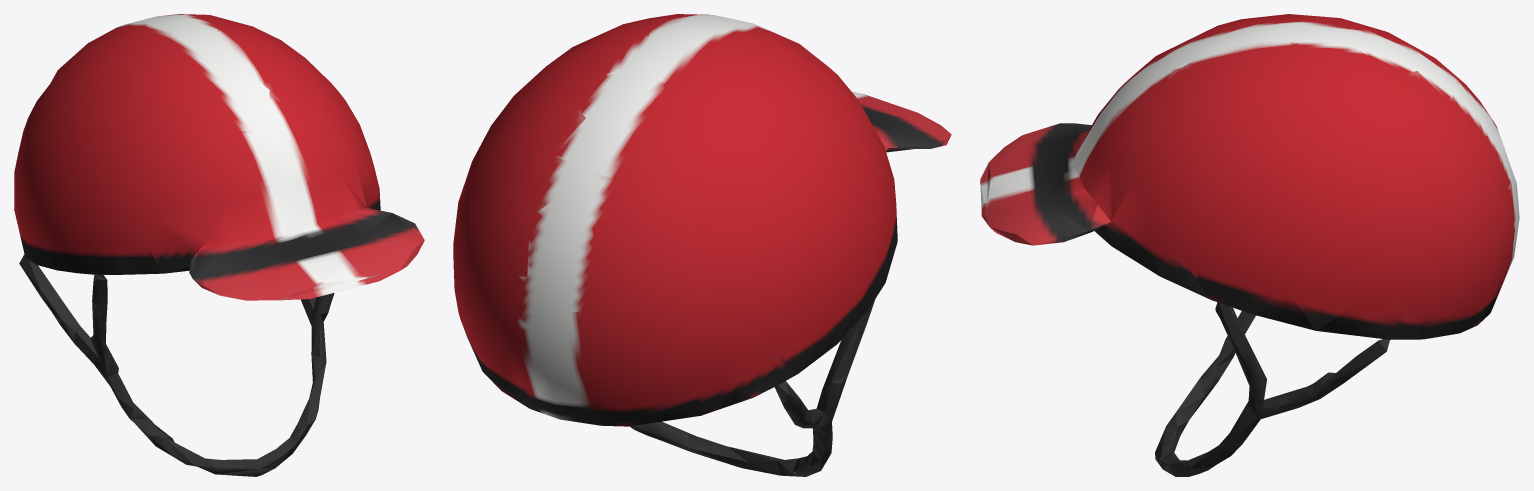
Rendered from mu_bao_hiem_edits.mid.glb.
3 views of the same model, side by side, from view 1: azimuth 30°, elevation 25°; view 2: azimuth 150°, elevation 25°; view 3: azimuth 270°, elevation 25° (orthographic). The views are drawn at different scales.
Visible parts, largest first — view 1: mu_bao_hiem_edits; view 2: mu_bao_hiem_edits; view 3: mu_bao_hiem_edits.
Part boxes in pixels (x1,y1,x2,y2): mu_bao_hiem_edits: (14,14,424,476); mu_bao_hiem_edits: (453,14,951,476); mu_bao_hiem_edits: (980,14,1519,476).
Bounding box in the file's own units: 0.2158 × 0.2705 × 0.3055.
Materials: 1 (1 with a texture image).
